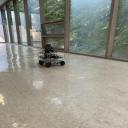cart: (38, 52, 65, 67)
